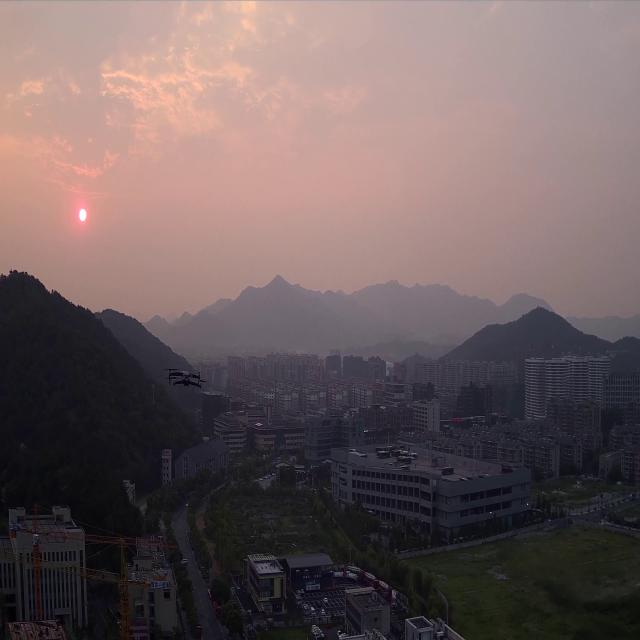UAV: (161, 364, 209, 390)
